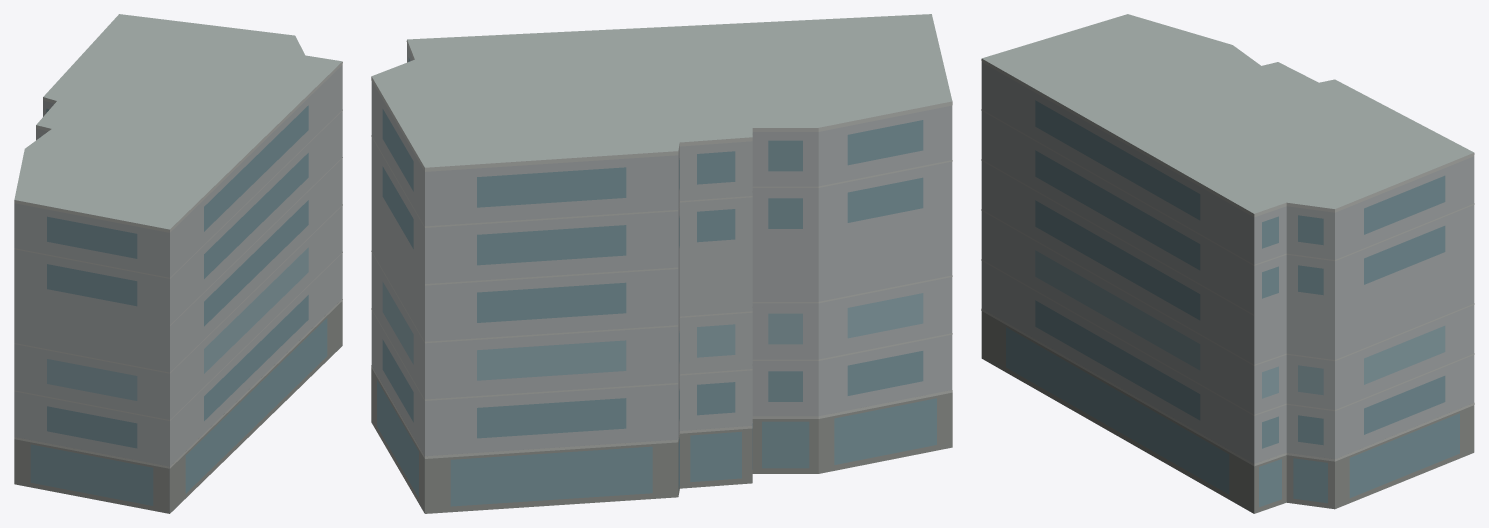
Rendered from survey-upis-32501943.glb.
3 views of the same model, side by side, from view 1: azimuth 30°, elevation 25°; view 2: azimuth 150°, elevation 25°; view 3: azimuth 270°, elevation 25° (orthographic). The views are drawn at different scales.
Parts seen in each view (by area): view 1: survey-upis-32501943.tmp; view 2: survey-upis-32501943.tmp; view 3: survey-upis-32501943.tmp.
Boxes of the visible parts, x1=… form: survey-upis-32501943.tmp: x1=14, y1=14, x2=342, y2=513; survey-upis-32501943.tmp: x1=371, y1=14, x2=952, y2=513; survey-upis-32501943.tmp: x1=981, y1=14, x2=1474, y2=513.
Bounding box in the file's own units: 29.31 × 20.5 × 30.54.
